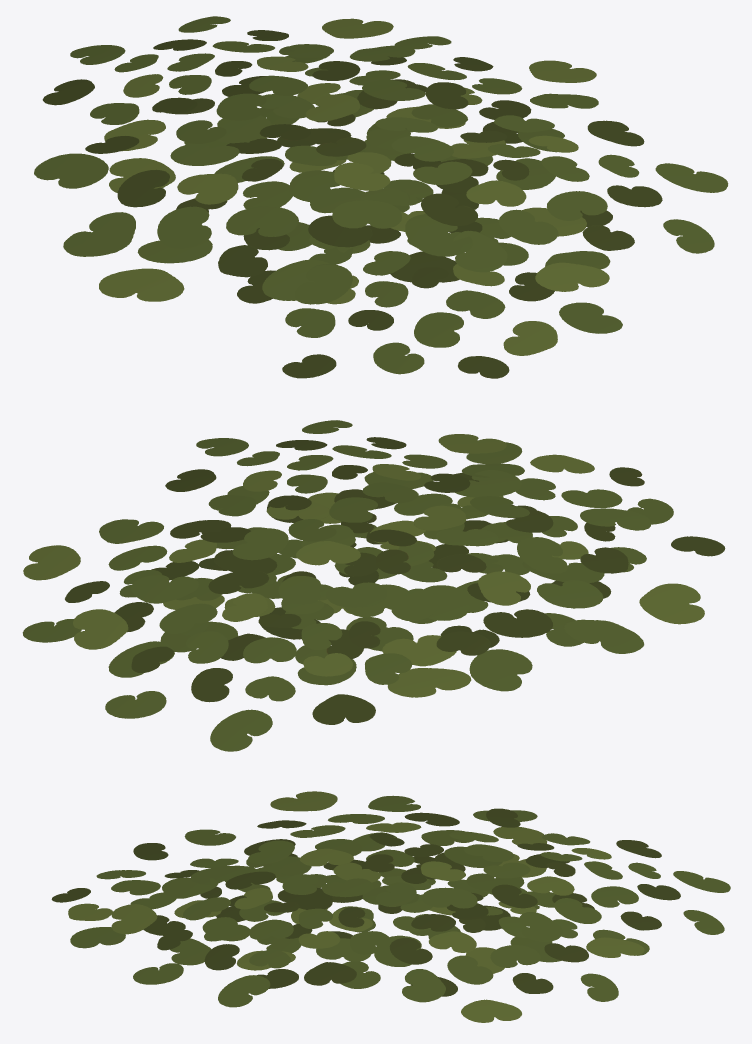
File: Asarabacca_1.fbx
The picture shows the model from 3 angles, top to bottom: view 1: azimuth 30°, elevation 25°; view 2: azimuth 150°, elevation 25°; view 3: azimuth 270°, elevation 25°; orthographic projection. The views are drawn at different scales.
Parts seen in each view (by area): view 1: Asarabacca_1; view 2: Asarabacca_1; view 3: Asarabacca_1.
Part boxes in pixels (bbox=[...]): Asarabacca_1: bbox=[34, 16, 728, 378]; Asarabacca_1: bbox=[22, 420, 725, 751]; Asarabacca_1: bbox=[51, 791, 730, 1022].
Bounding box in the file's own units: 109 × 14.11 × 137.
1 material, 1 textured.
